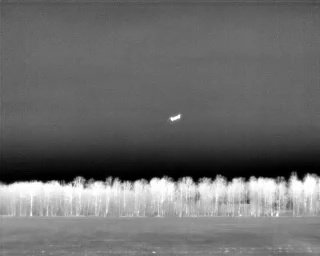DRONE: (166, 109, 186, 126)
